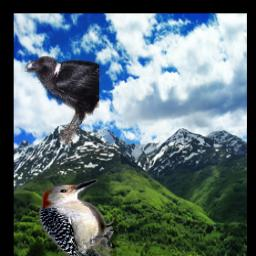Crow: (25, 55, 99, 145)
Woodpecker: (40, 180, 118, 256)
